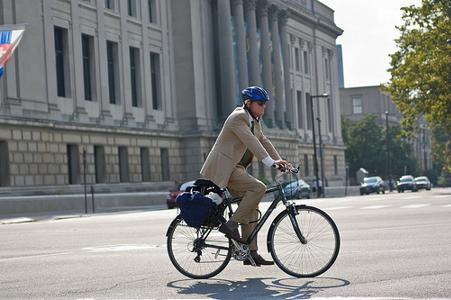person: (200, 86, 295, 268)
